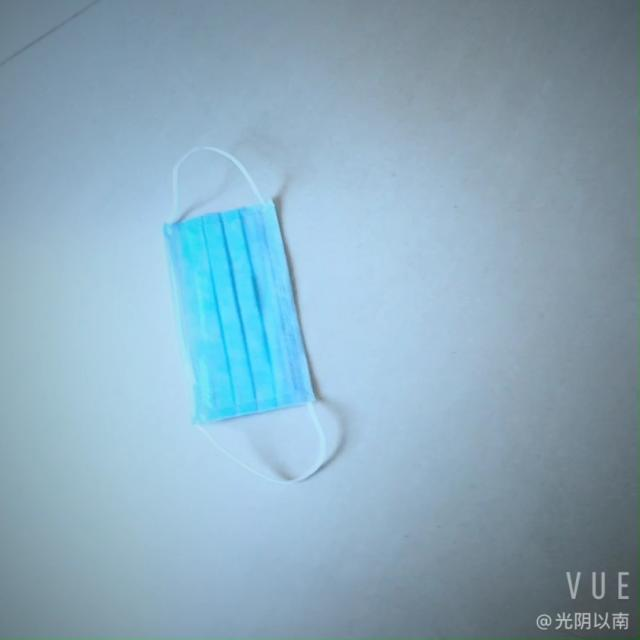non-organic waste: (143, 189, 319, 420)
